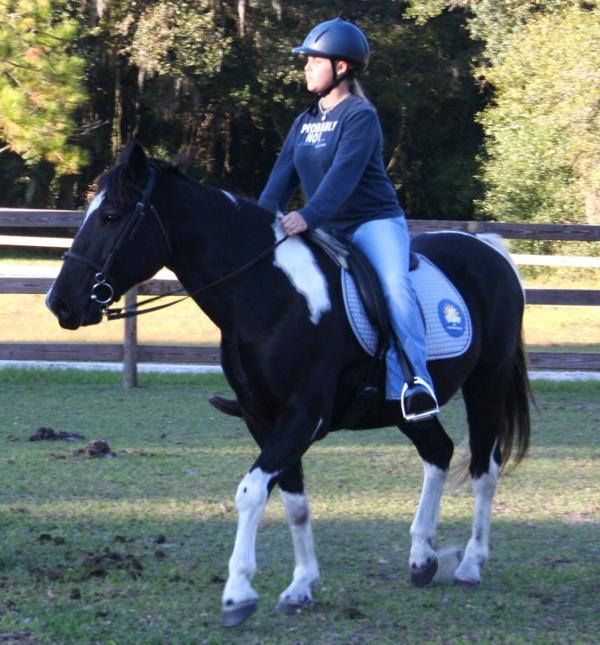person: (209, 18, 441, 427)
